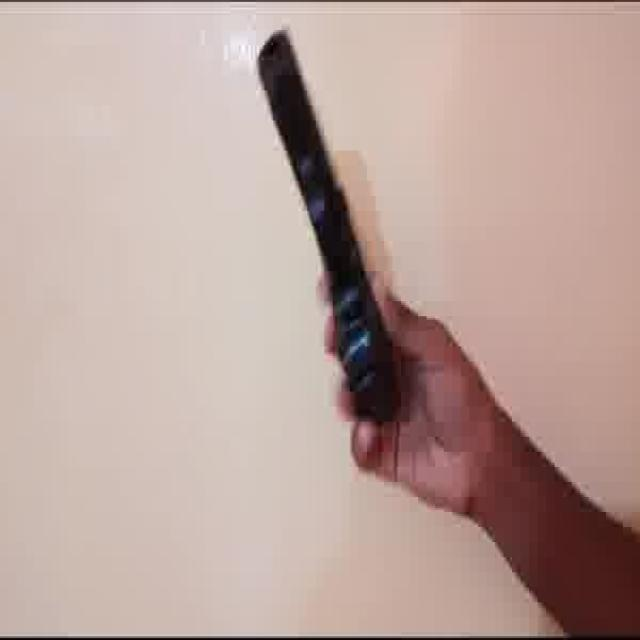weapon: (256, 27, 407, 429)
